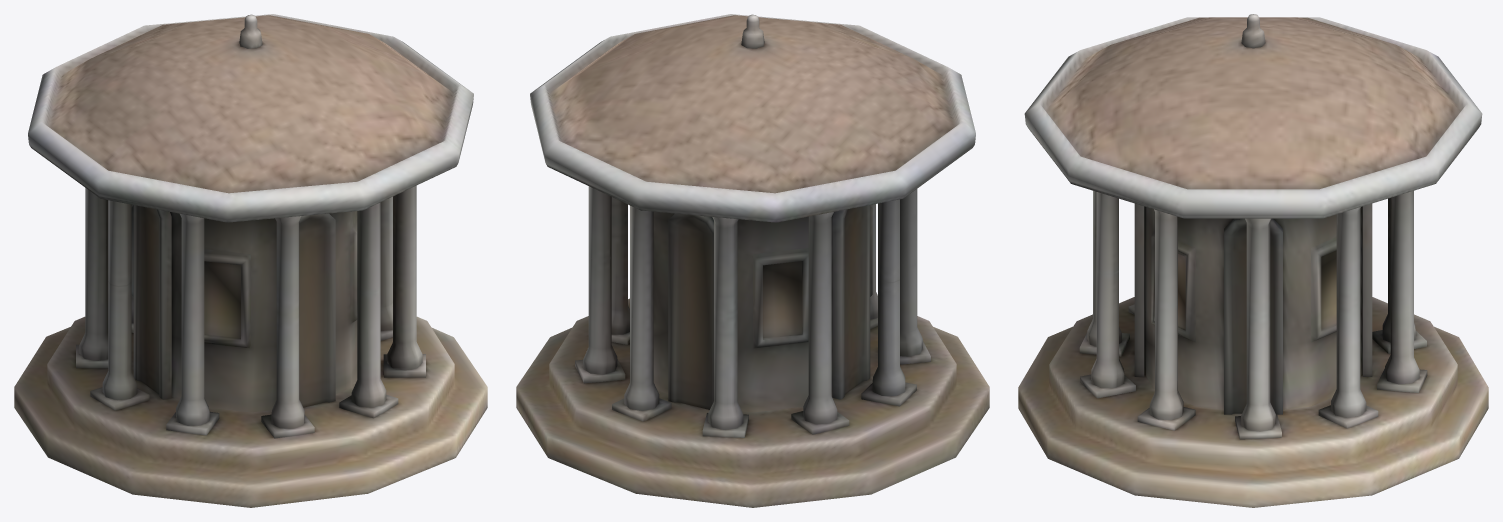
Rendered from Temple_roman.glb.
The picture shows the model from 3 angles, left to right: view 1: azimuth 30°, elevation 25°; view 2: azimuth 150°, elevation 25°; view 3: azimuth 270°, elevation 25°; orthographic projection.
Visible parts, largest first — view 1: Cylinder.005; view 2: Cylinder.005; view 3: Cylinder.005.
Boxes of the visible parts, <box> form: Cylinder.005: <box>14,14,487,507</box>; Cylinder.005: <box>516,14,989,507</box>; Cylinder.005: <box>1018,14,1488,507</box>.
Size of the model in its own units: 17.72 by 16.38 by 17.72.
1 material, 1 textured.
